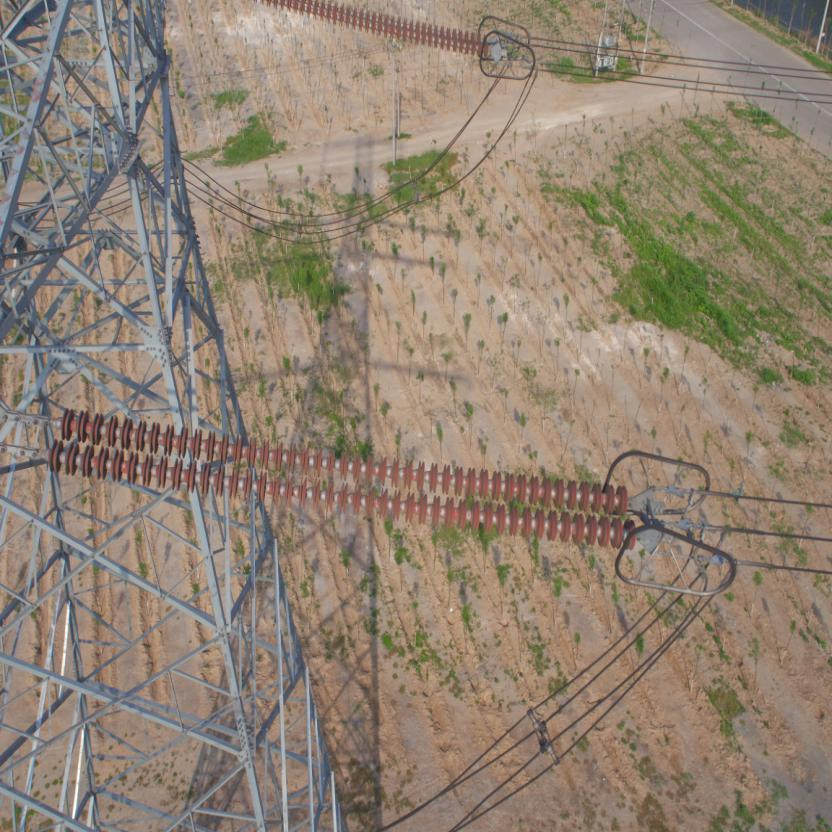insulator: (34, 405, 645, 551)
